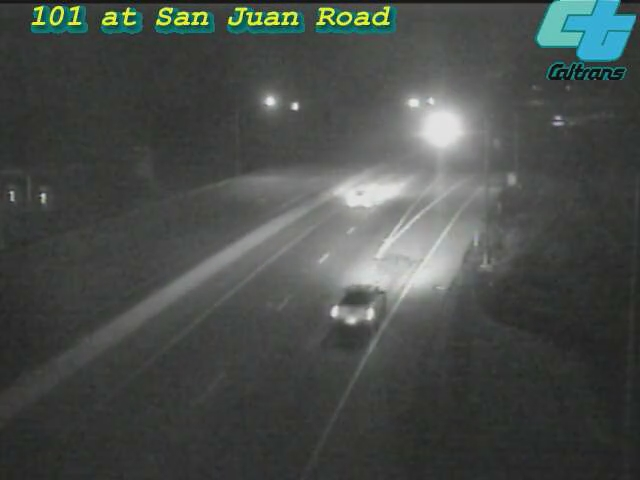vehicle: (325, 157, 405, 237), (322, 261, 402, 341), (415, 105, 465, 155), (542, 95, 592, 145)
